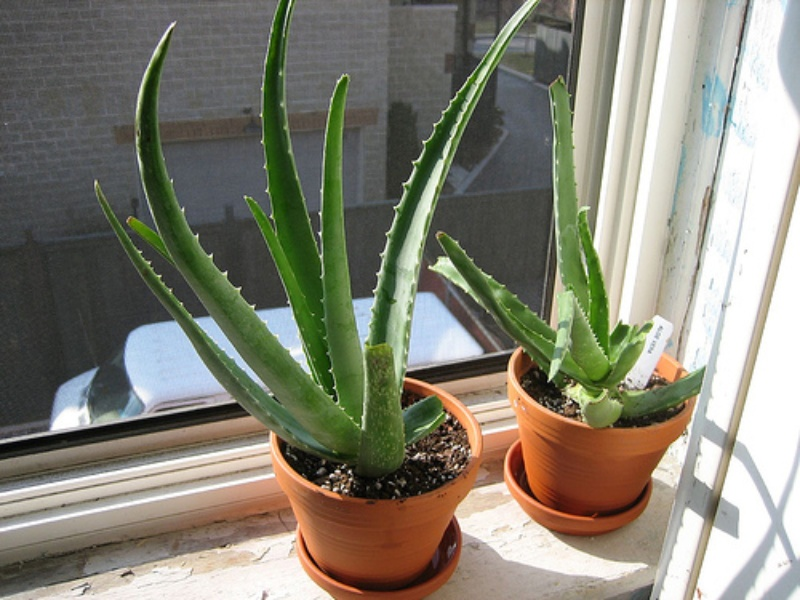car: (48, 292, 485, 432)
